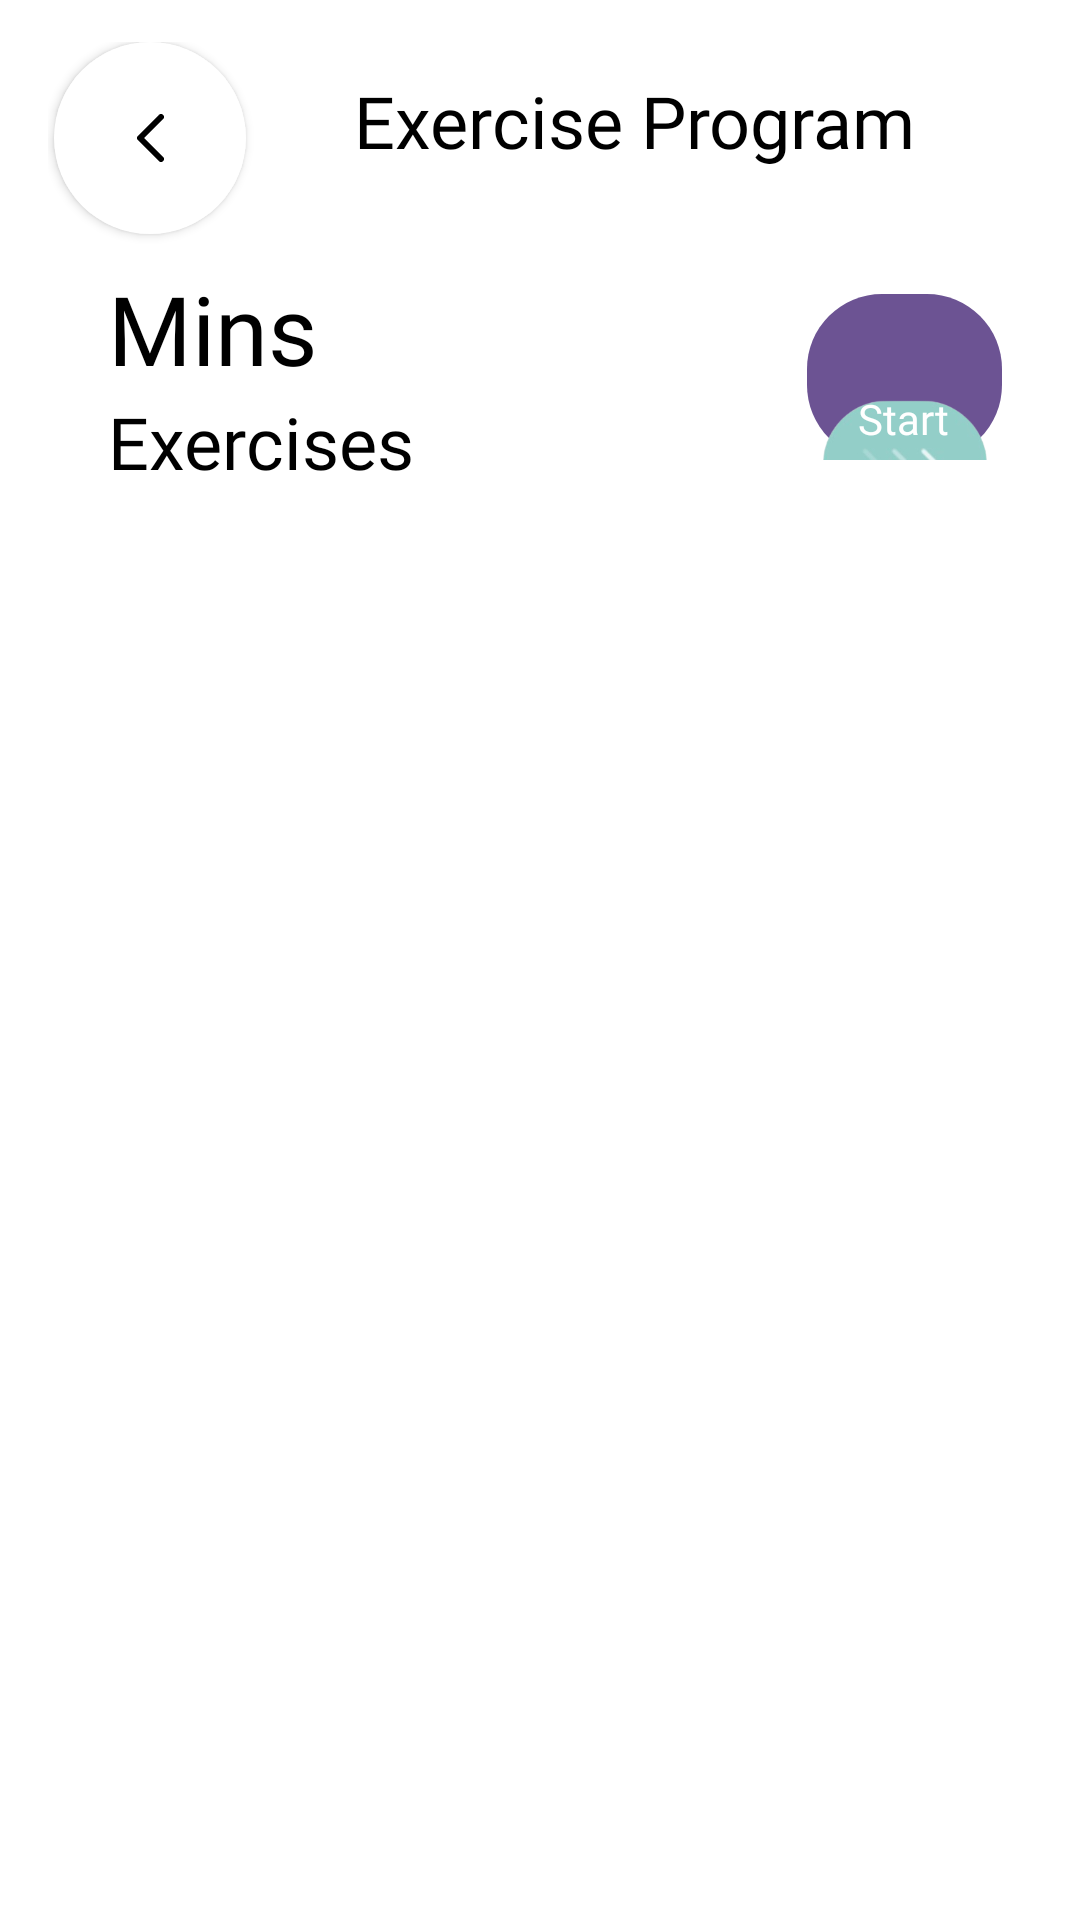

Named icons in this screenshot (1080×1920) and their bounding boxes, [left=x1, top=y1, right=x2, bottom=y2]:
smallback: [left=54, top=53, right=164, bottom=234]
